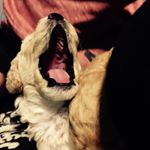puppy: (3, 11, 88, 112)
